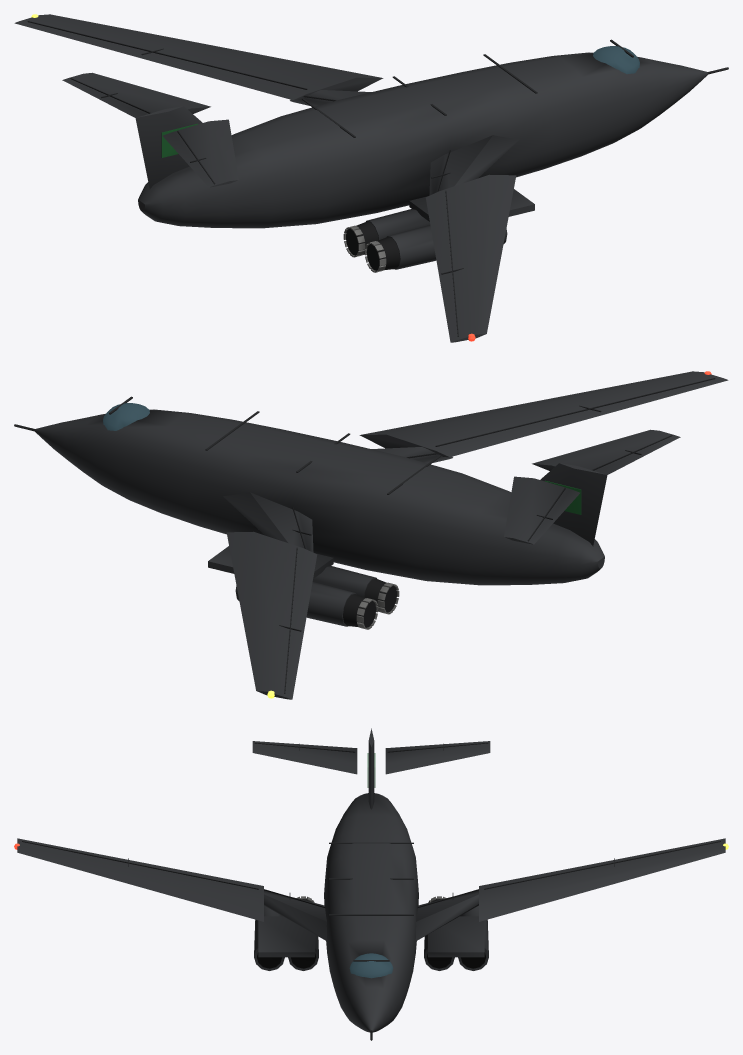
File: u_bomber.glb
The picture shows the model from 3 angles, top to bottom: view 1: azimuth 30°, elevation 25°; view 2: azimuth 150°, elevation 25°; view 3: azimuth 270°, elevation 25°; orthographic projection. The views are drawn at different scales.
Parts seen in each view (by area): view 1: Bomber_Walls, Bomber_Details; view 2: Bomber_Walls, Bomber_Details; view 3: Bomber_Walls, Bomber_Details.
Part boxes in pixels (<box>): Bomber_Walls: <box>14,14,707,342</box>; Bomber_Details: <box>27,14,728,341</box>; Bomber_Walls: <box>35,371,728,699</box>; Bomber_Details: <box>14,371,715,698</box>; Bomber_Walls: <box>17,728,725,1032</box>; Bomber_Details: <box>14,742,728,1040</box>.
Size of the model in its own units: 1.96 by 0.485 by 2.52.
